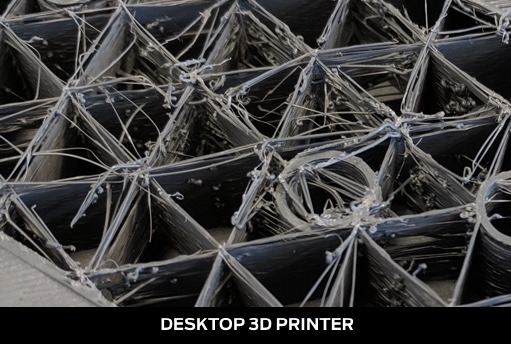fail: (1, 1, 511, 305)
